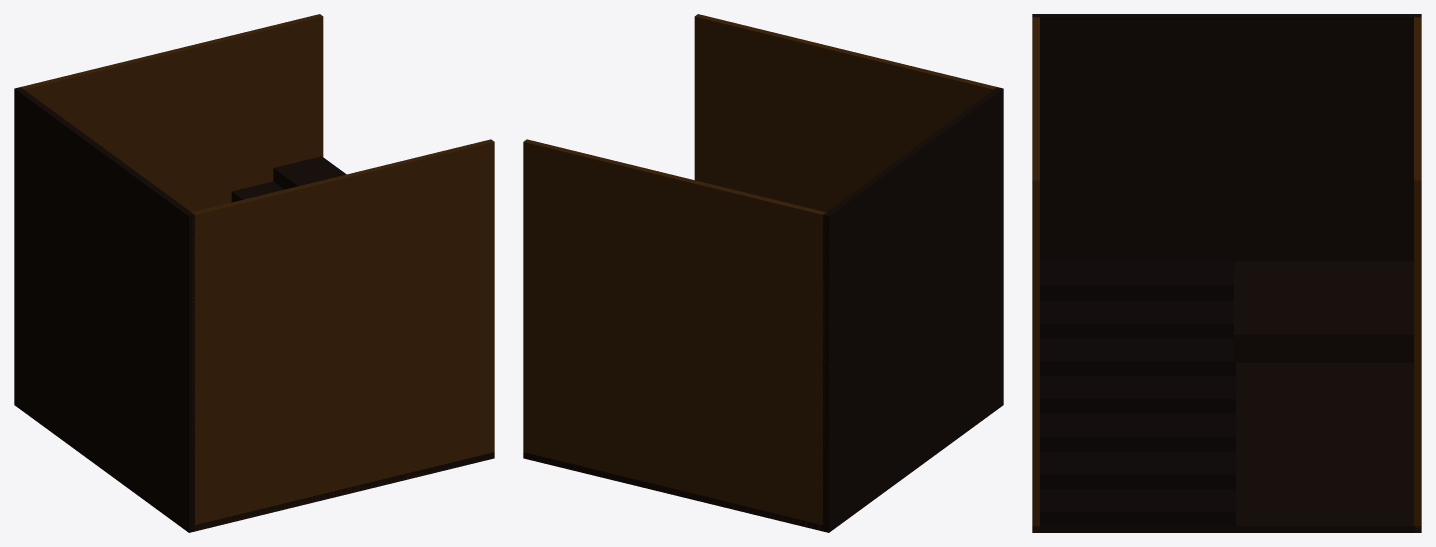
Rendered from stairs.obj.
3 views of the same model, side by side, from view 1: azimuth 30°, elevation 25°; view 2: azimuth 150°, elevation 25°; view 3: azimuth 270°, elevation 25° (orthographic). The views are drawn at different scales.
Parts seen in each view (by area): view 1: LeftWall, FarWall, RightWall, Floor, SecondSet; view 2: RightWall, FarWall, LeftWall, Floor; view 3: FarWall, FirstSet, Floor, SecondSet, RightWall, LeftWall.
Boxes of the visible parts, x1,y1,x2,y2 form: LeftWall: (192, 139, 494, 530); FarWall: (14, 87, 194, 532); RightWall: (20, 14, 323, 212); Floor: (192, 452, 494, 531); SecondSet: (231, 156, 346, 202); RightWall: (523, 139, 826, 531); FarWall: (823, 87, 1003, 532); LeftWall: (694, 14, 998, 212); Floor: (523, 452, 825, 531); FarWall: (1032, 14, 1421, 362); FirstSet: (1040, 260, 1235, 525); Floor: (1032, 363, 1421, 532); SecondSet: (1234, 261, 1413, 359); RightWall: (1414, 15, 1421, 532); LeftWall: (1032, 15, 1039, 532).
Size of the model in its own units: 10.1 by 10 by 10.
